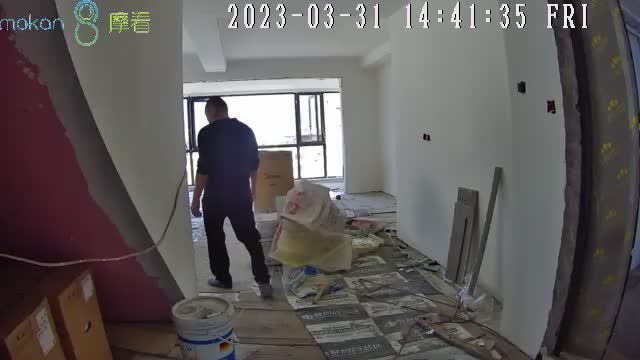people: (191, 95, 272, 297)
window: (187, 90, 343, 186)
